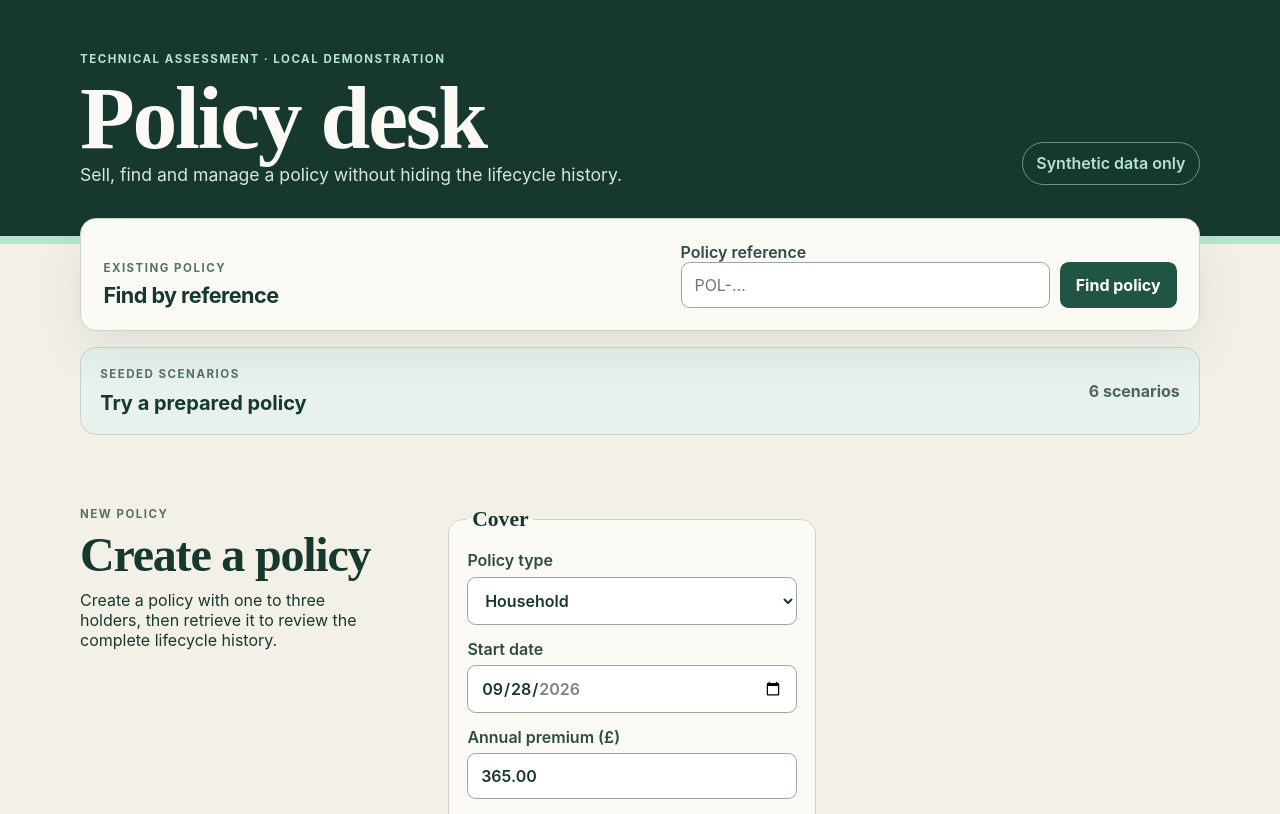
Test: policy desk › prevents lifecycle actions that history or dates make unavailable
Type "POL-DEMO123" into the field labelled "Policy reference" at (865, 285), box x1=681 y1=262 x2=1050 y2=308
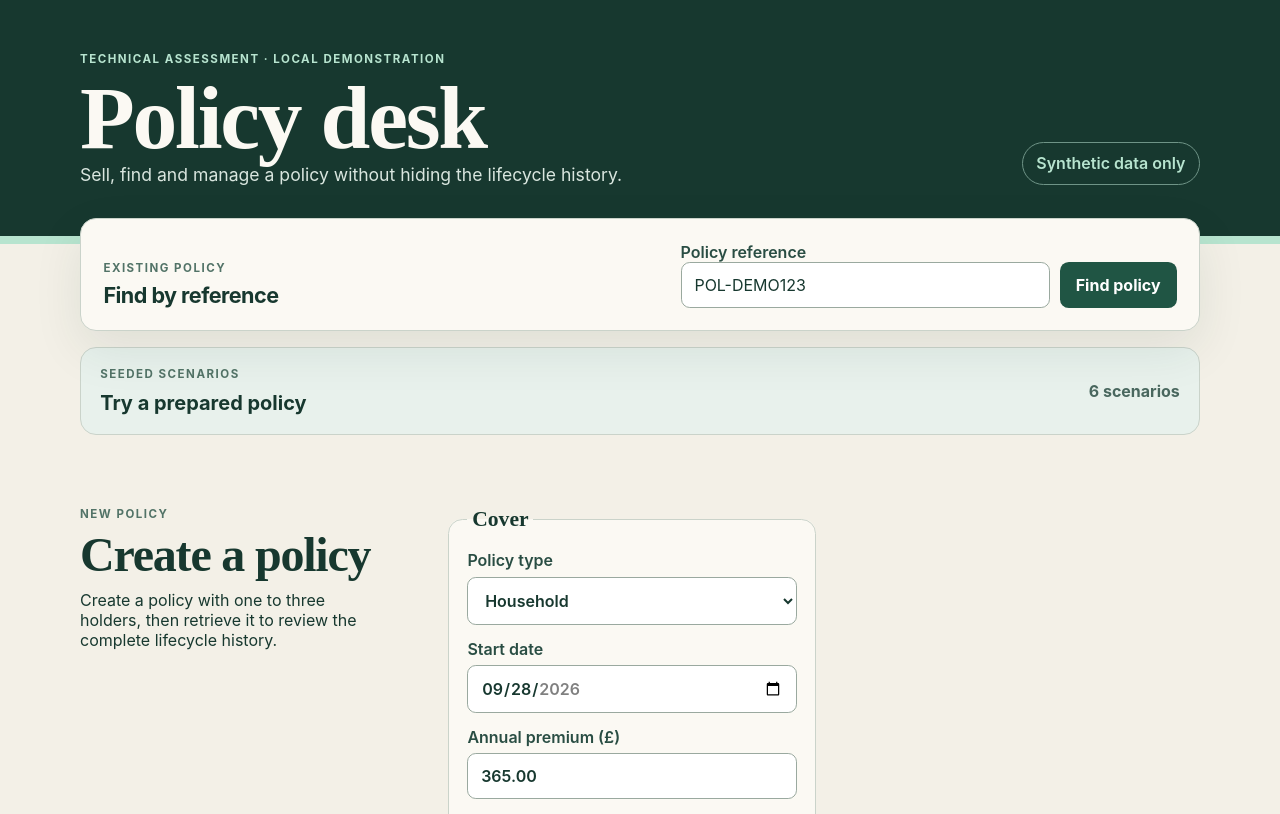
Click the button "Find policy" at (1118, 285), box x1=1060 y1=262 x2=1177 y2=308
(page scrolled)
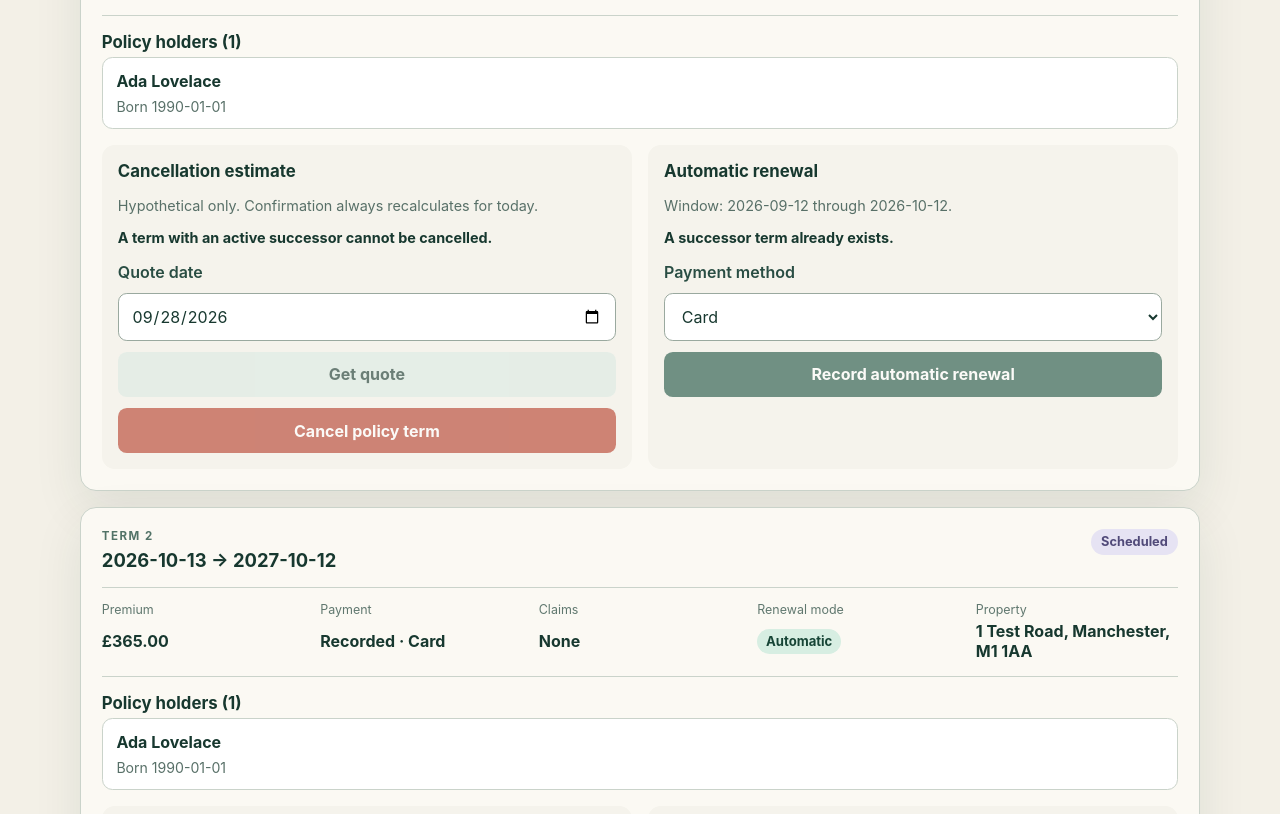
Check: the text "A successor term already exists." is shown, box x1=664 y1=229 x2=894 y2=246
Check: the text "A term with an active successor cannot be cancelled." is shown, box x1=118 y1=229 x2=492 y2=246
Check: the button "Cancel policy term" is disabled, box x1=118 y1=408 x2=616 y2=453
